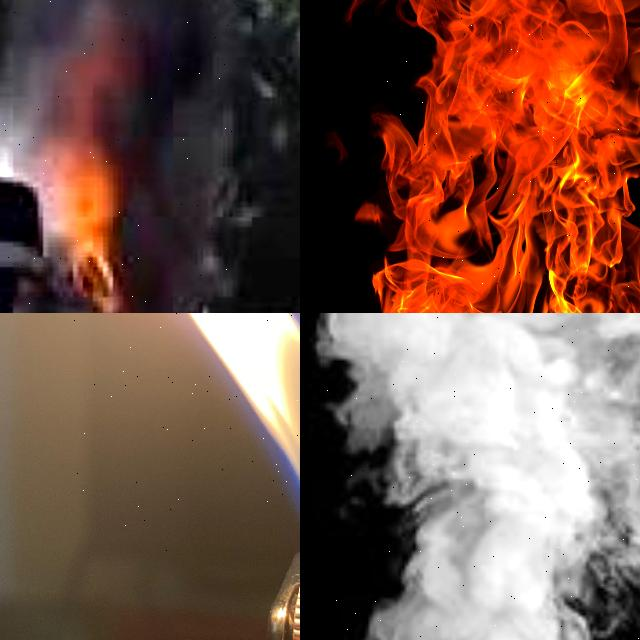fire: (377, 0, 640, 313), (188, 313, 300, 495)
smoke: (323, 313, 640, 640), (0, 0, 234, 313)
